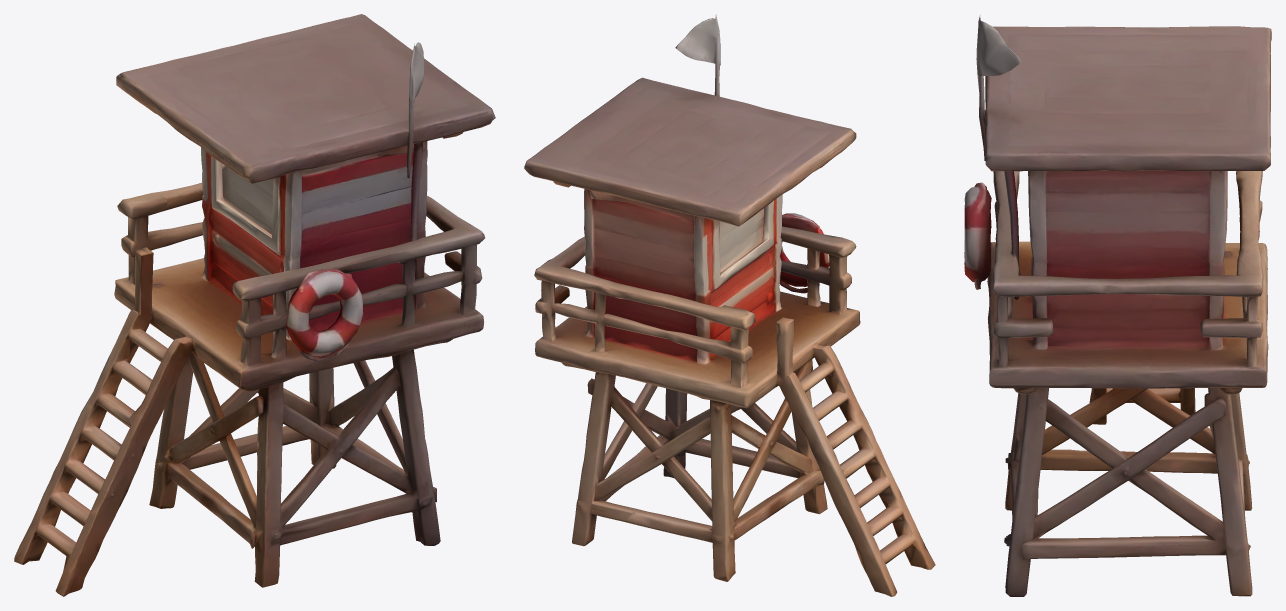
The model's file is lifeguard-tower.glb.
3 renders of one model, left to right at view 1: azimuth 30°, elevation 25°; view 2: azimuth 150°, elevation 25°; view 3: azimuth 270°, elevation 25°, orthographic. The views are drawn at different scales.
Visible parts, largest first — view 1: tripo_node_f6914c19-6b27-4537-9715-5a48c902ce46; view 2: tripo_node_f6914c19-6b27-4537-9715-5a48c902ce46; view 3: tripo_node_f6914c19-6b27-4537-9715-5a48c902ce46.
Boxes of the visible parts, <box> form: tripo_node_f6914c19-6b27-4537-9715-5a48c902ce46: <box>14,14,495,596</box>; tripo_node_f6914c19-6b27-4537-9715-5a48c902ce46: <box>524,14,935,596</box>; tripo_node_f6914c19-6b27-4537-9715-5a48c902ce46: <box>964,14,1271,596</box>.
Bounding box in the file's own units: 0.775 × 1 × 0.495.
Materials: 1 (1 with a texture image).
